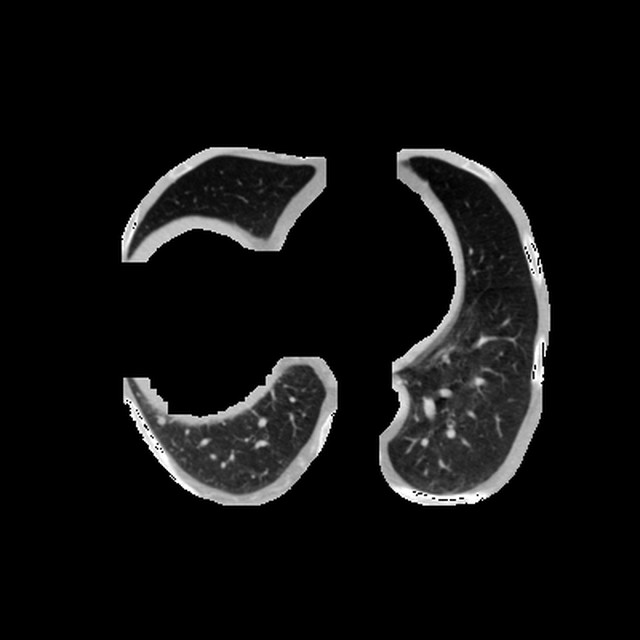PN: (157, 418, 163, 424)
